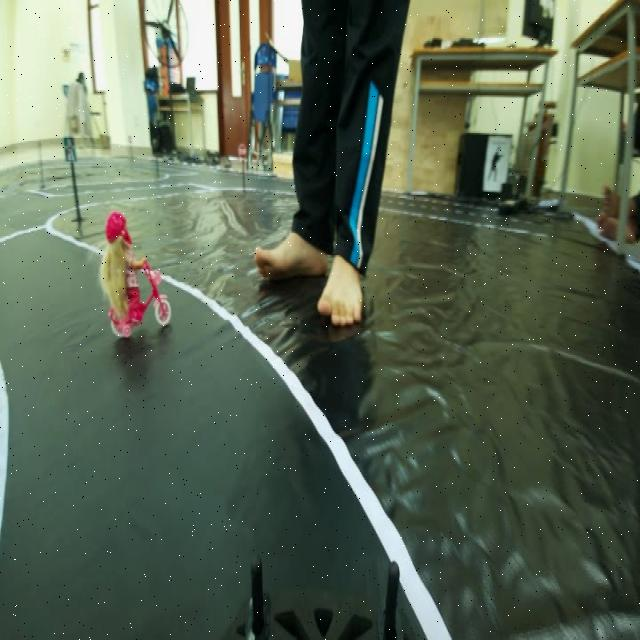pedestrian: (86, 208, 174, 338)
